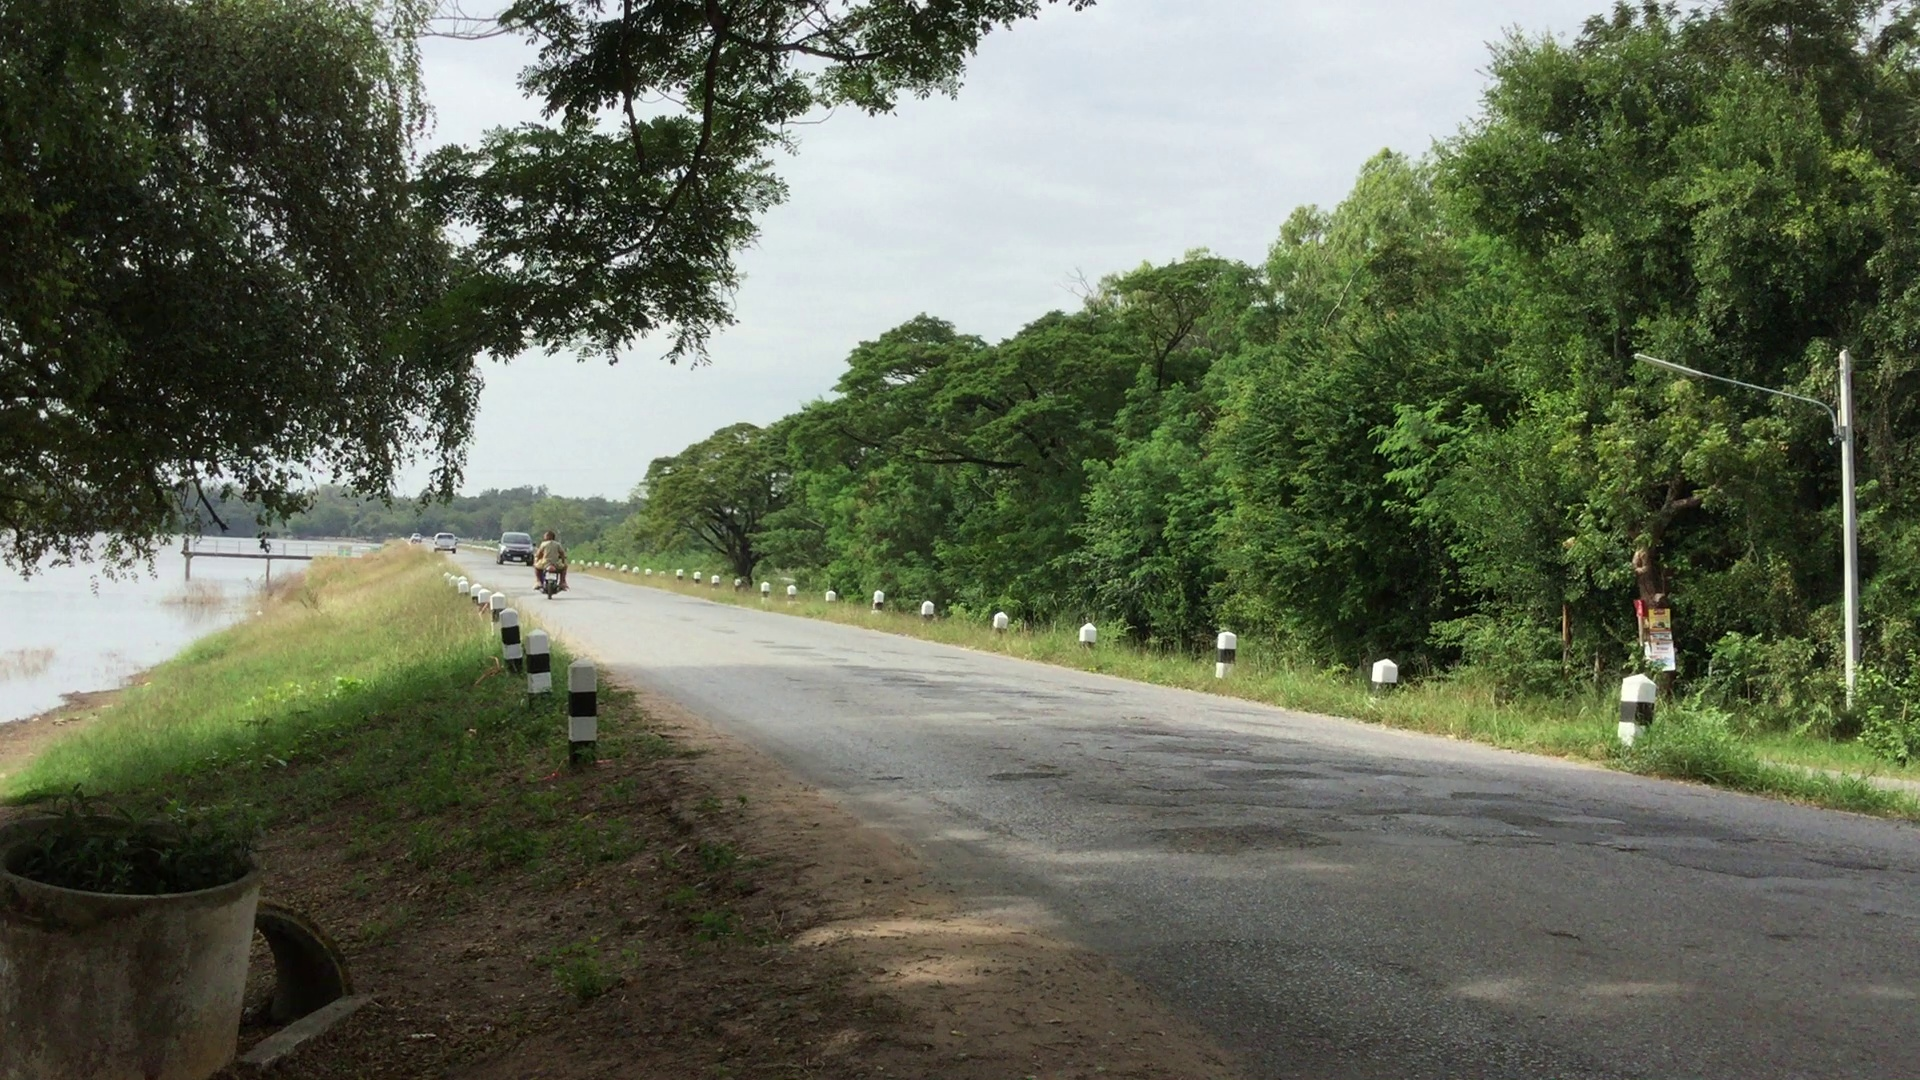post: (549, 651, 615, 762), (1613, 669, 1677, 760), (522, 628, 560, 705), (497, 615, 531, 691), (1213, 626, 1247, 698), (1371, 657, 1404, 707)
